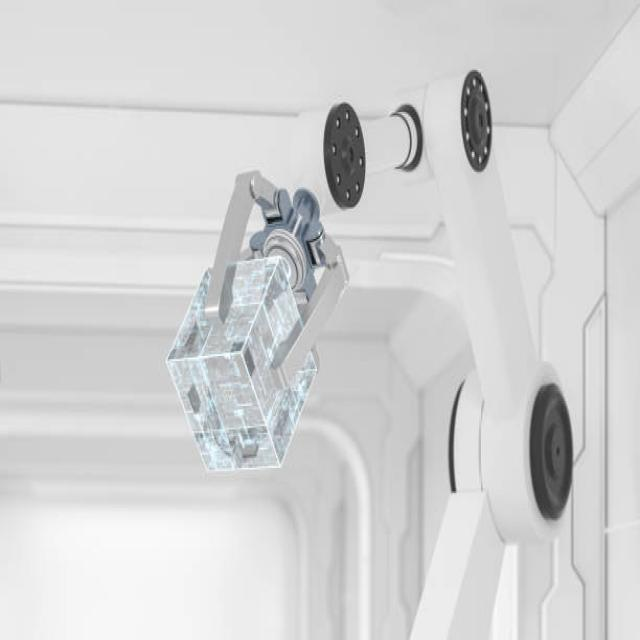Robotic-arm: (280, 59, 581, 640)
